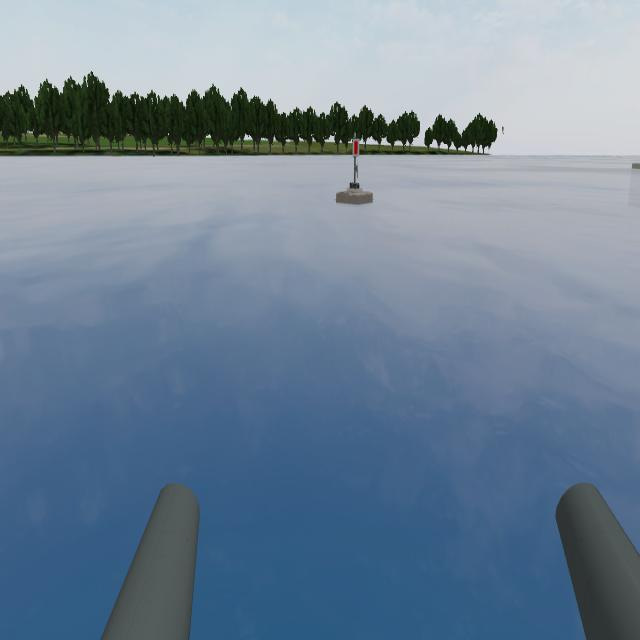red_pole: (352, 138, 359, 159)
